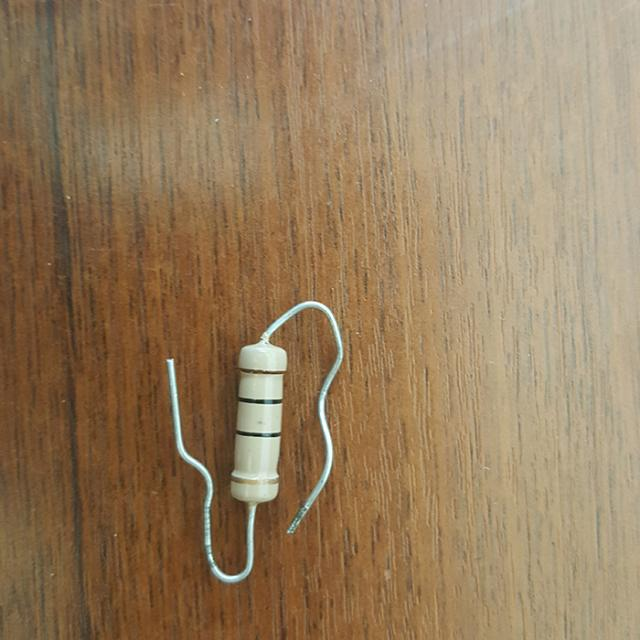black: (241, 398, 280, 405), (237, 431, 279, 437)
brown: (240, 367, 284, 375)
gold: (233, 475, 276, 484)
resistor: (214, 339, 297, 519)
